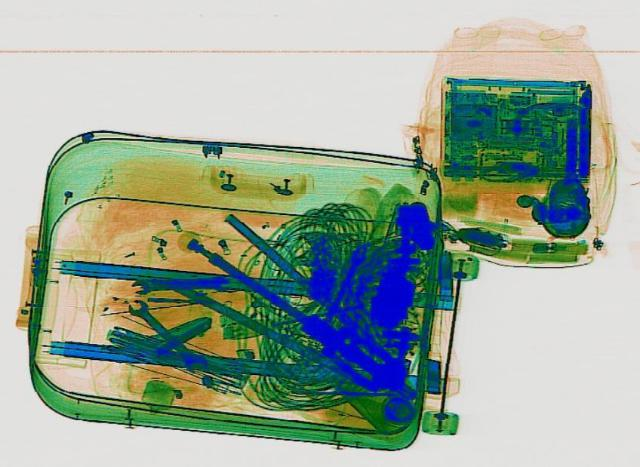Pliers: (142, 211, 438, 414)
Wrench: (120, 295, 208, 372), (129, 274, 229, 295)
